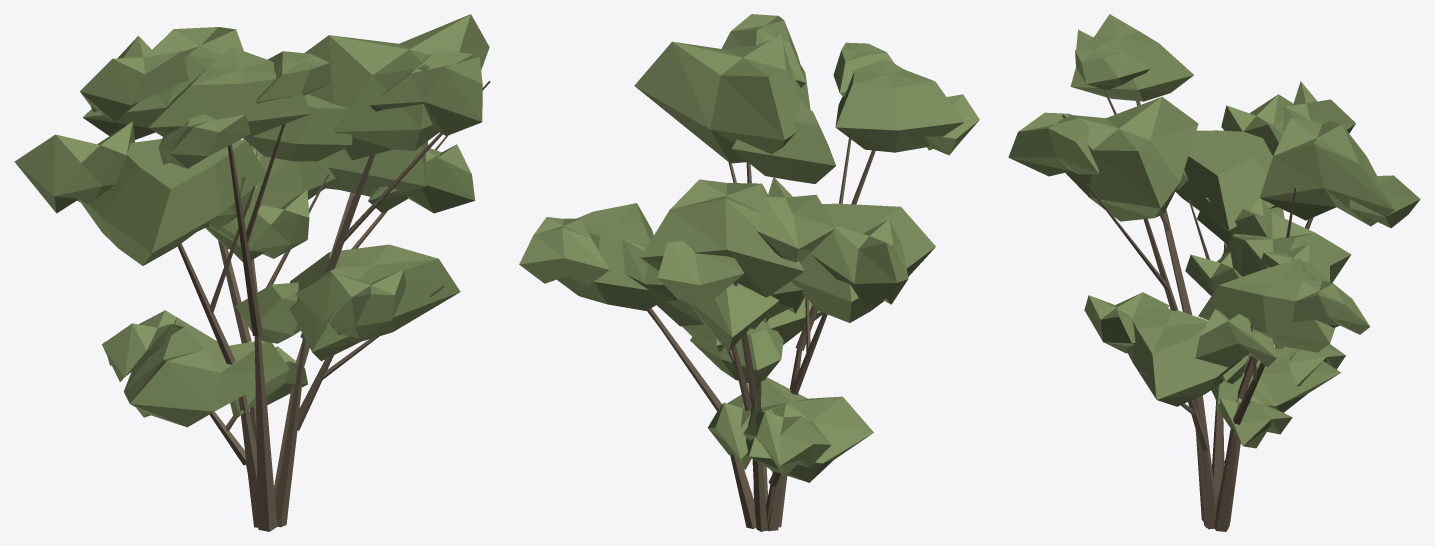
Rendered from sand-plum-tall-lite.glb.
The picture shows the model from 3 angles, left to right: view 1: azimuth 30°, elevation 25°; view 2: azimuth 150°, elevation 25°; view 3: azimuth 270°, elevation 25°; orthographic projection. The views are drawn at different scales.
Visible parts, largest first — view 1: sand-plum-tall-lite / foliage, sand-plum-tall-lite / stems; view 2: sand-plum-tall-lite / foliage, sand-plum-tall-lite / stems; view 3: sand-plum-tall-lite / foliage, sand-plum-tall-lite / stems.
Boxes of the visible parts, x1,y1,x2,y2 form: sand-plum-tall-lite / foliage: [14, 14, 489, 427]; sand-plum-tall-lite / stems: [177, 81, 490, 531]; sand-plum-tall-lite / foliage: [519, 14, 979, 482]; sand-plum-tall-lite / stems: [647, 138, 875, 531]; sand-plum-tall-lite / foliage: [1008, 14, 1420, 448]; sand-plum-tall-lite / stems: [1087, 89, 1313, 531].
Bounding box in the file's own units: 1.59 × 1.92 × 1.57.
